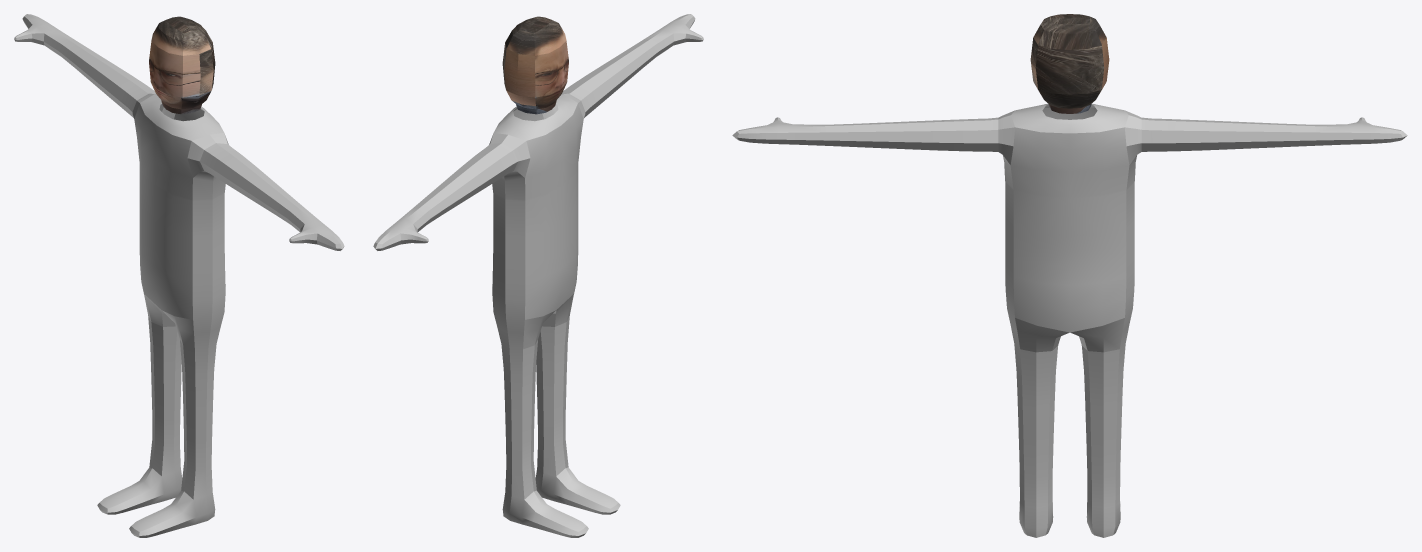
The model's file is Erik_final.fbx.
3 views of the same model, side by side, from view 1: azimuth 30°, elevation 25°; view 2: azimuth 150°, elevation 25°; view 3: azimuth 270°, elevation 25° (orthographic). The views are drawn at different scales.
Parts seen in each view (by area): view 1: Cube, Cube.002; view 2: Cube, Cube.002; view 3: Cube, Cube.002.
Part boxes in pixels (box(x1,y1,x2,y2)): Cube: box(14, 14, 344, 537); Cube.002: box(149, 16, 215, 114); Cube: box(373, 14, 703, 537); Cube.002: box(502, 16, 568, 114); Cube: box(732, 103, 1407, 537); Cube.002: box(1030, 14, 1109, 113).
Size of the model in its own units: 125 by 592 by 700.
